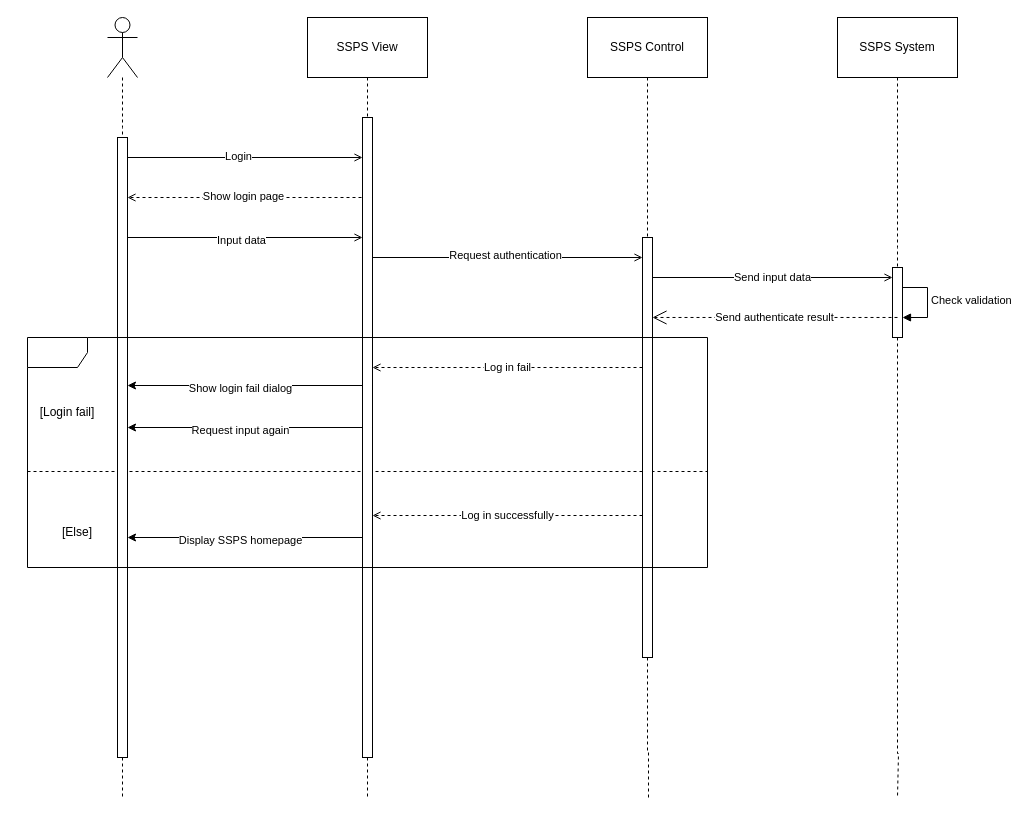
The diagram is 1029 pixels wide and 816 high, and some of its shapes have lost their labels. Each missing label, with the box of its shape:
Alter: (26, 336, 708, 568)
Student: (106, 16, 138, 78)
